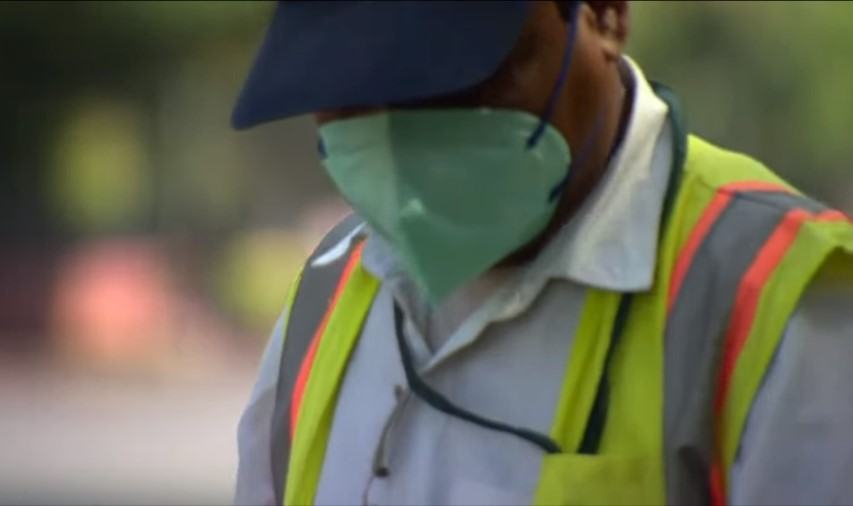face_with_mask: (230, 7, 632, 312)
